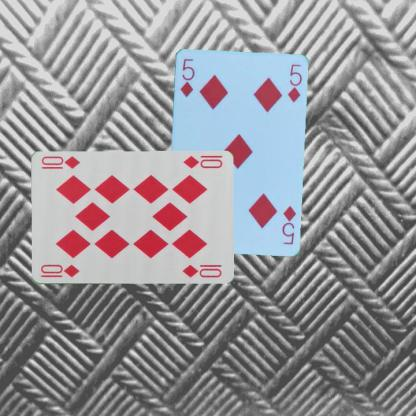10d: (38, 262, 80, 279), (180, 154, 224, 170)
5d: (178, 56, 196, 98), (279, 203, 297, 245)
